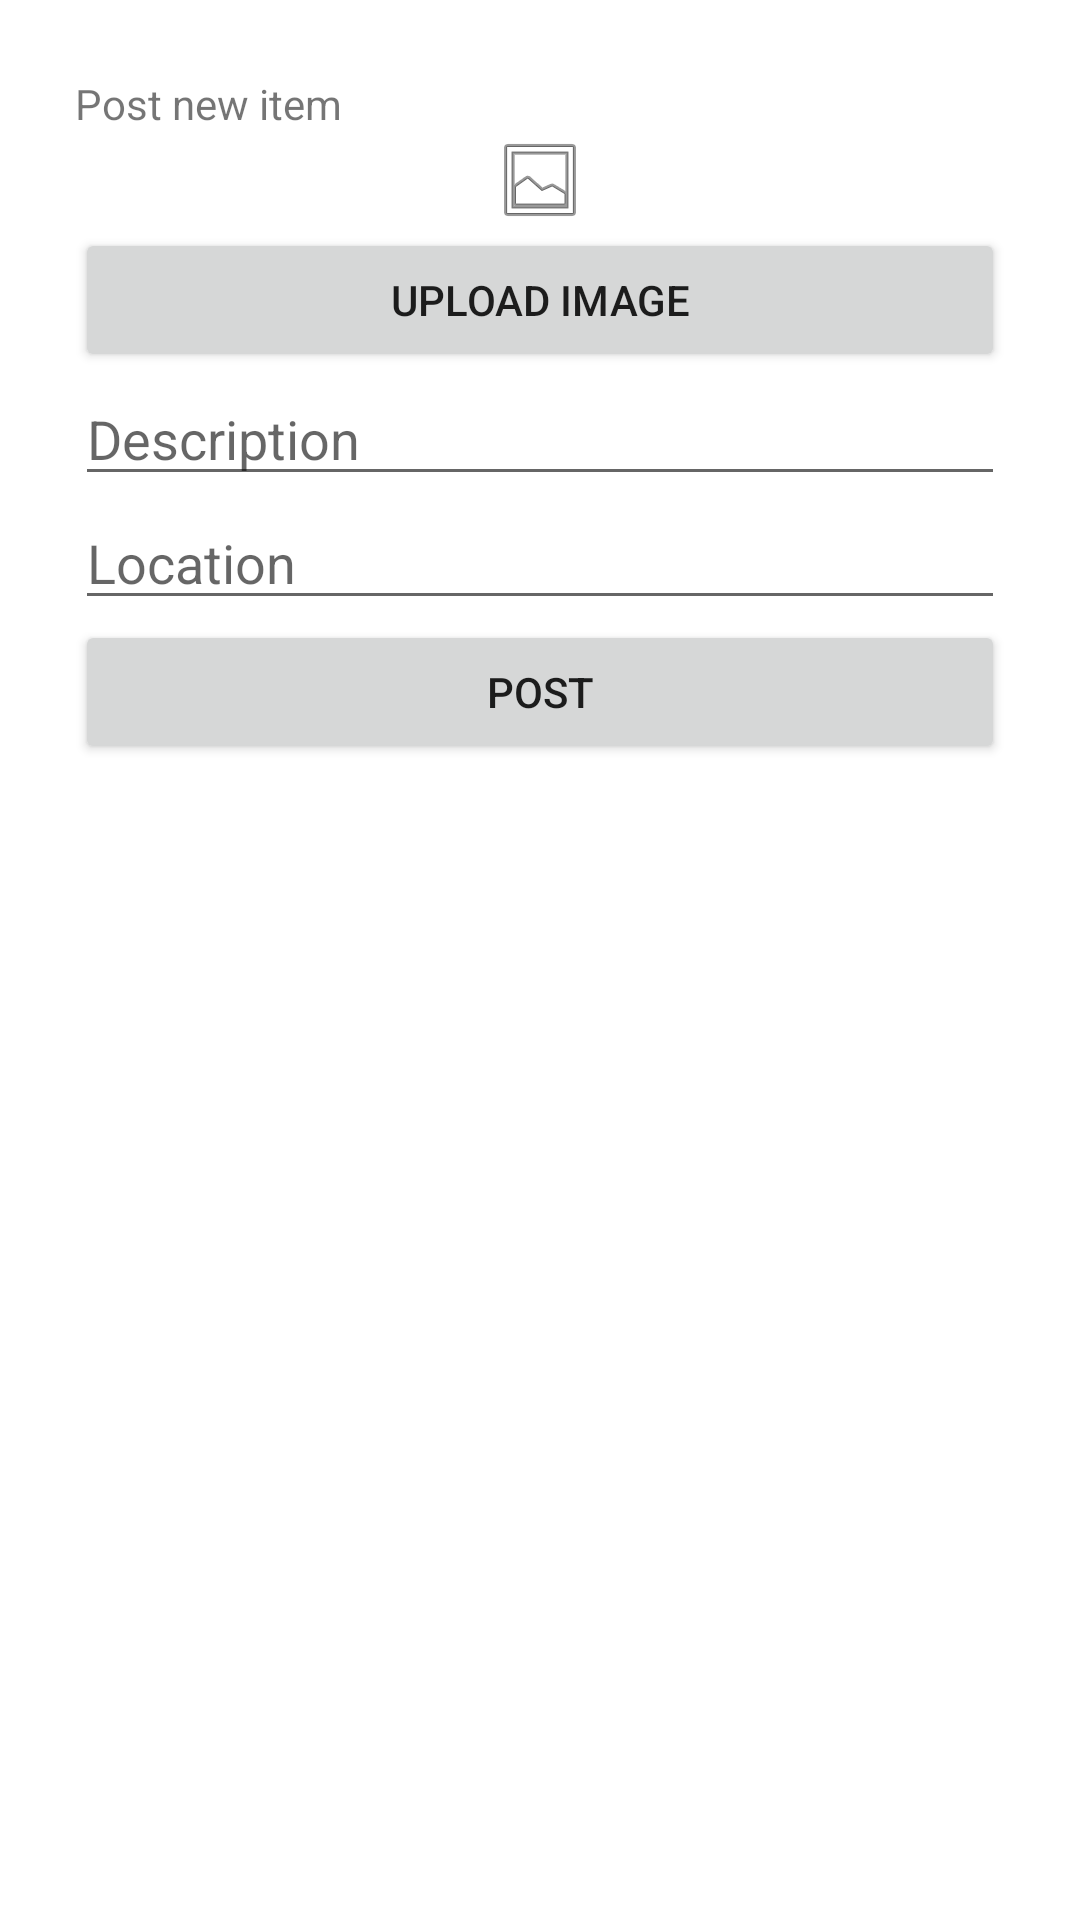

Where icons sit on this 1080*1920 app screen, as (left=x1, top=y1, right=x2, bottom=y2):
gallery: (left=504, top=144, right=576, bottom=216)
